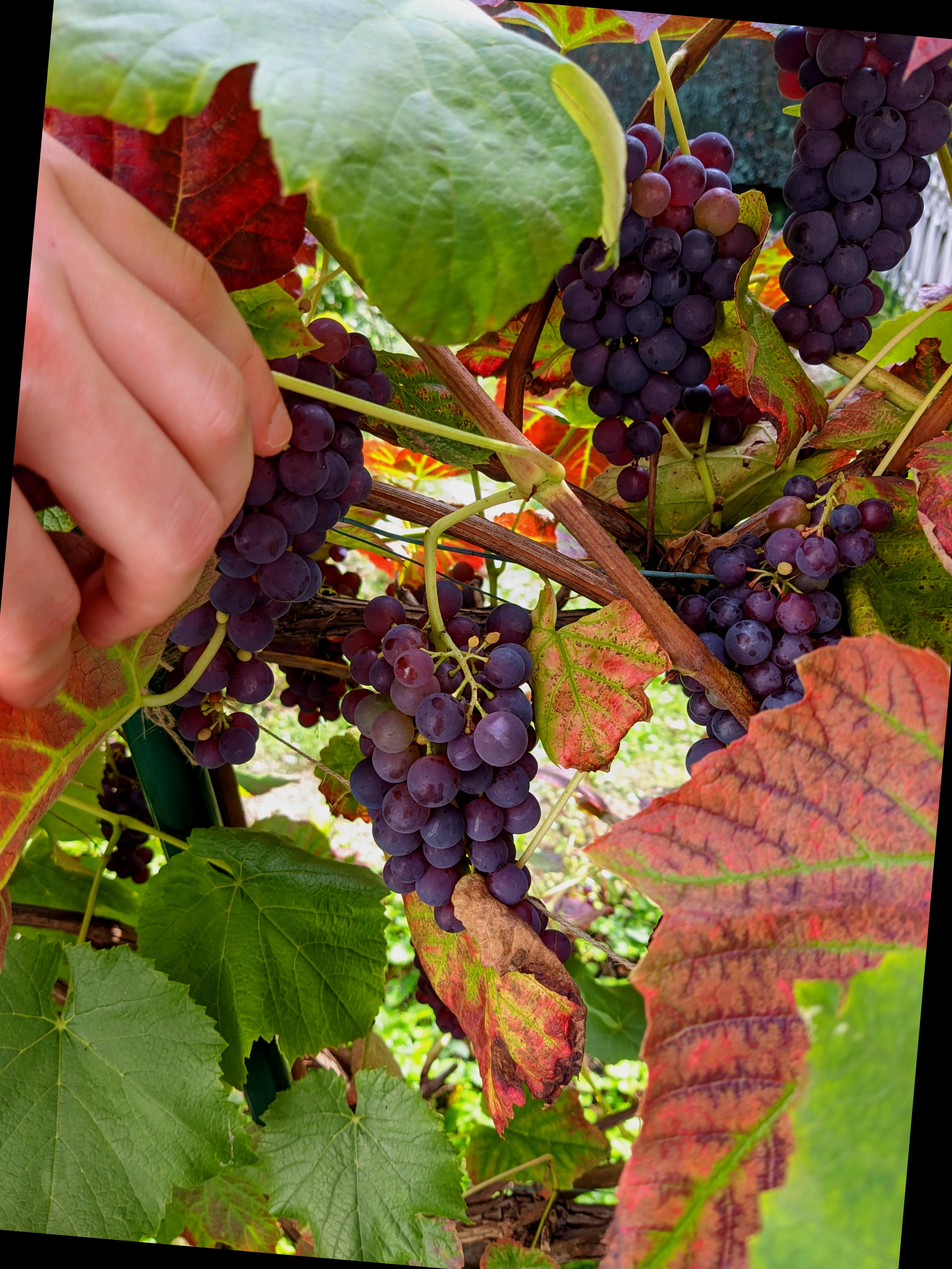Grape Ripe: (376, 515, 659, 930), (202, 269, 439, 741), (584, 78, 828, 475), (709, 424, 947, 752), (800, 0, 952, 336), (146, 705, 220, 848)
